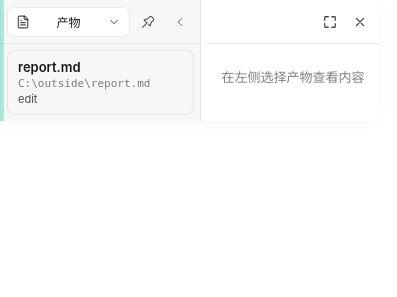
ToolSidePanel navigation collapse › explains external-file authorization instead of offering a broken open action
What coordinates should you click on to do the following:
click the button "report.md C:\\outside\\report.md edit"
I would click on:
 (100, 82)
Its box is [8,51,193,114].
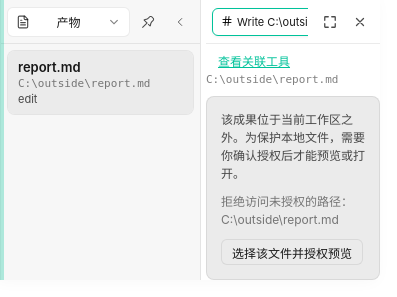
Check: the text "该成果位于当前工作区之外。为保护本地文件，需要你确认授权后才能预览或打开。" is shown, box [221,111,365,183]
Check: the button "选择该文件并授权预览" is shown, box [221,239,363,265]
